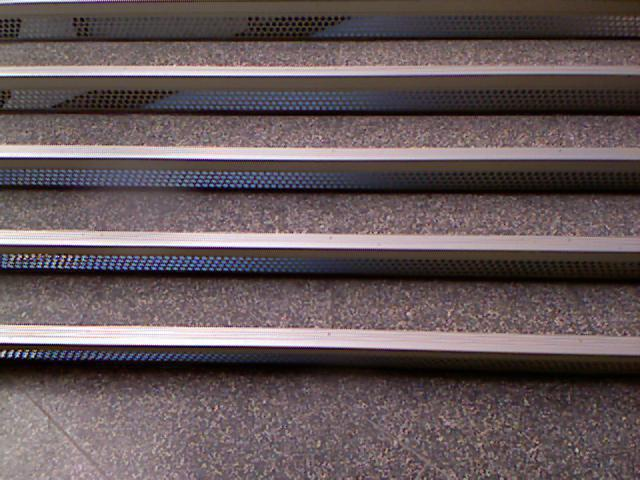Escaleras: (4, 13, 636, 474)
